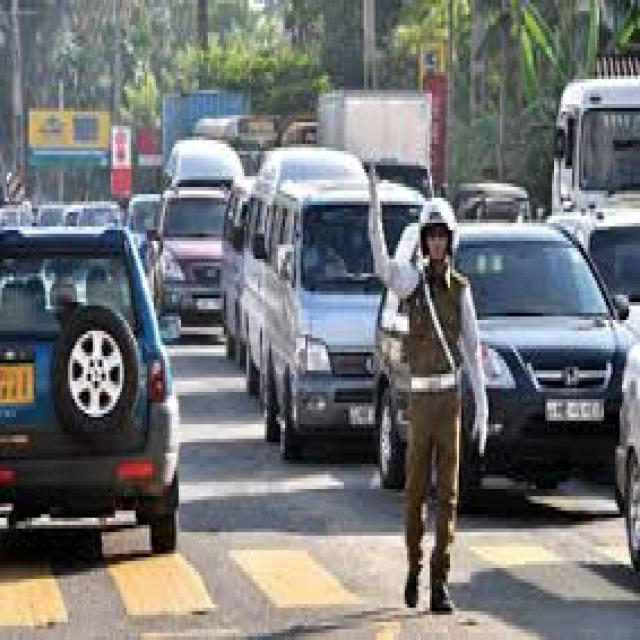car: (378, 223, 629, 496), (0, 227, 176, 550), (260, 147, 407, 457), (154, 191, 226, 324), (222, 176, 256, 396), (615, 345, 638, 572)
person: (371, 183, 484, 611)
